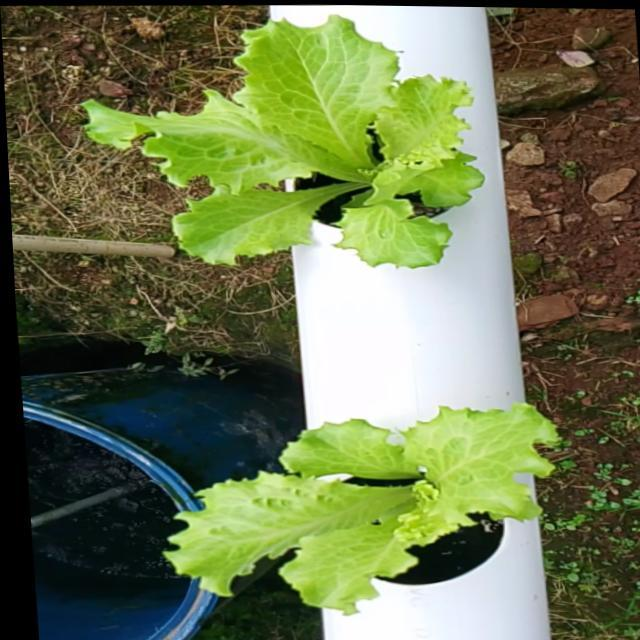Baby: (84, 12, 484, 268), (165, 408, 560, 620)
